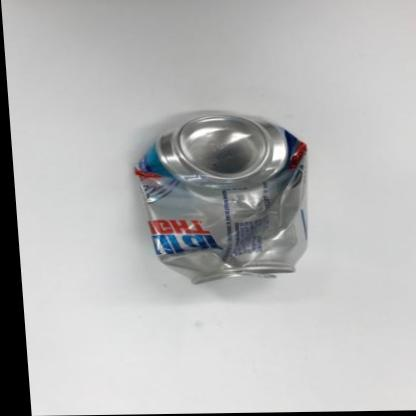trash: (135, 111, 306, 282)
